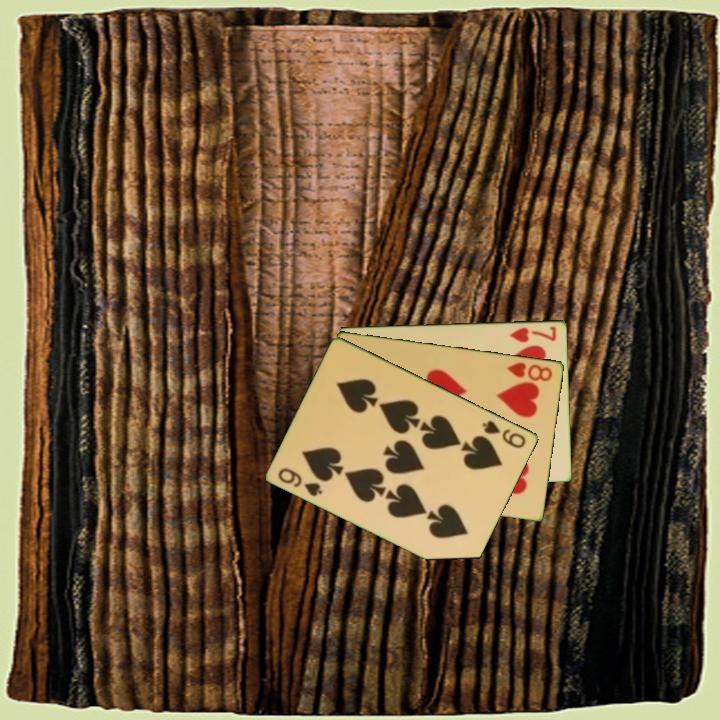7h: (506, 322, 559, 345)
8h: (503, 358, 556, 384)
9s: (275, 464, 326, 499), (479, 417, 529, 451)
